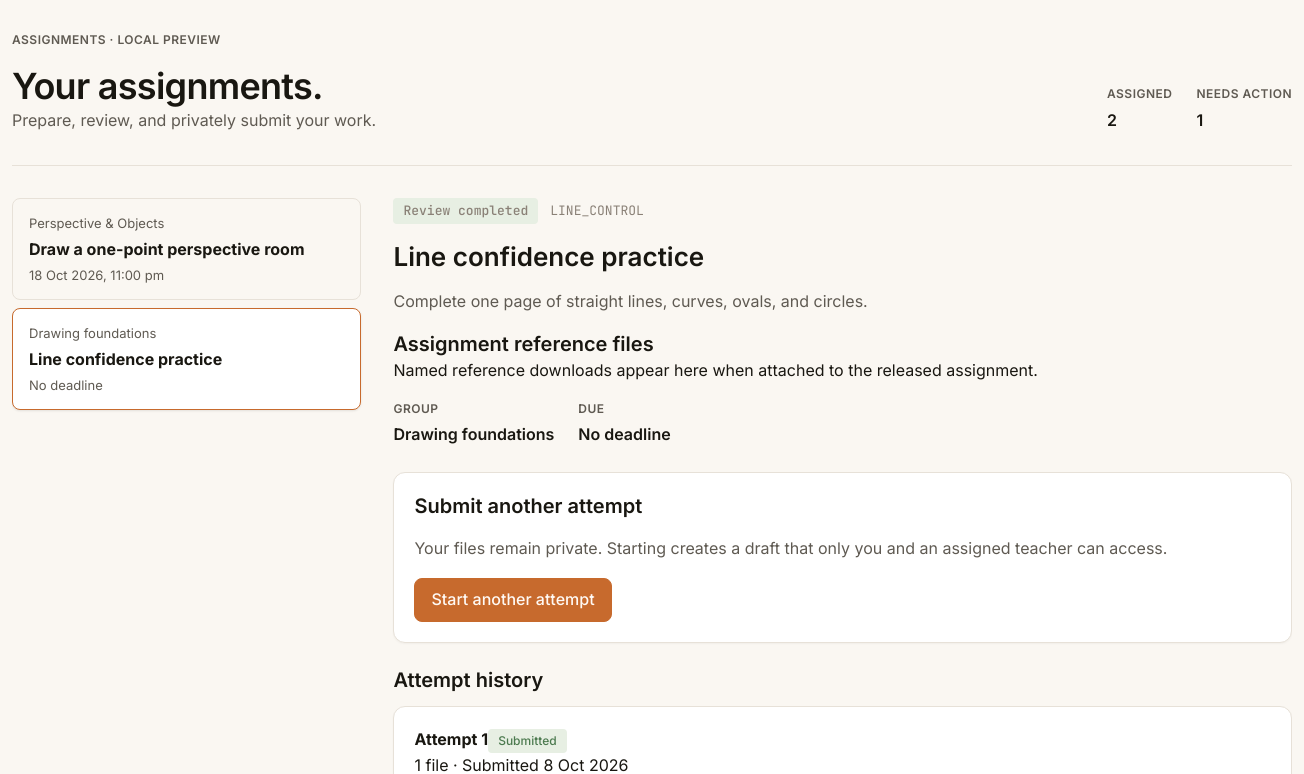
Scenario: StudentAssignmentsPage › keeps reviewed attempts locked while allowing a further numbered draft
What coordinates should you click on to do the following:
click the button "Start another attempt"
I would click on:
 (513, 600)
Its box is [414,578,612,622].
(page scrolled)
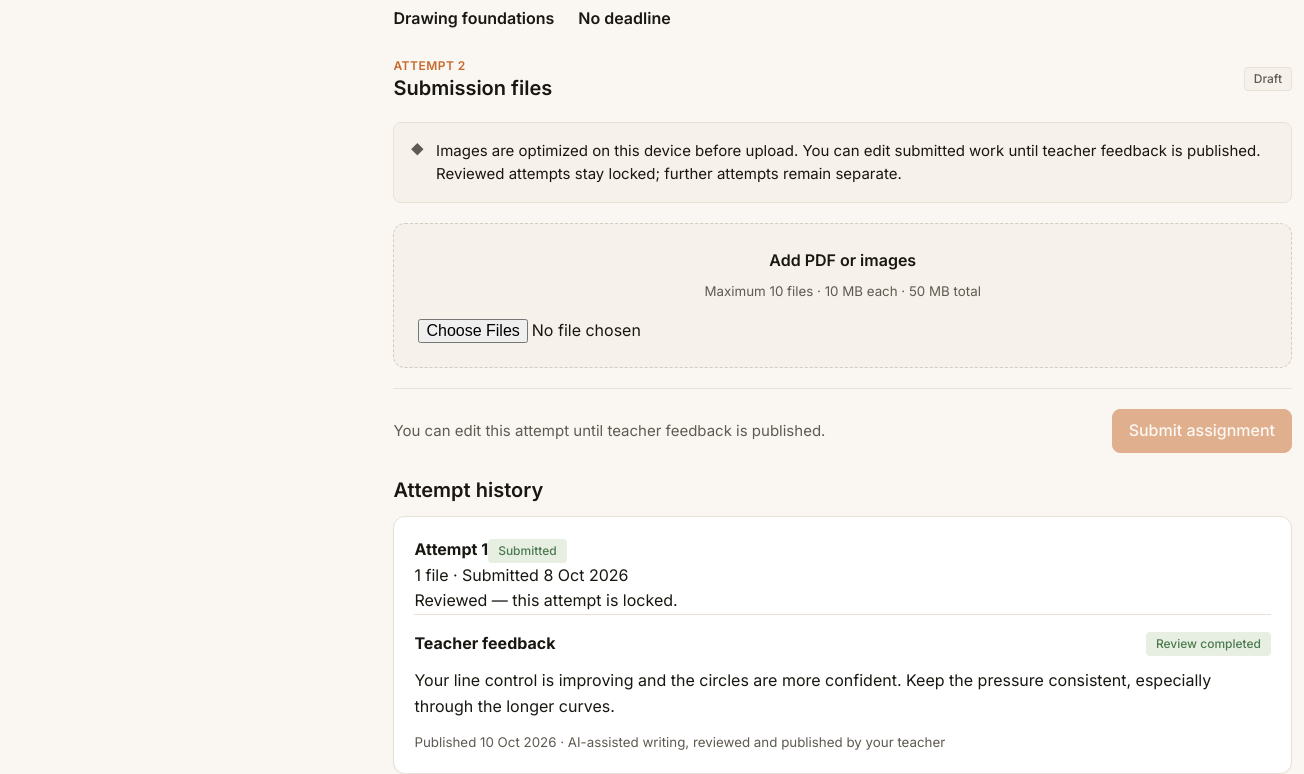
Expected: the heading "Teacher feedback" is shown, [414,631,555,656]
Expected: the text "Attempt 2" is shown, [393,58,466,73]
Expected: the button "Start another attempt" is gone
